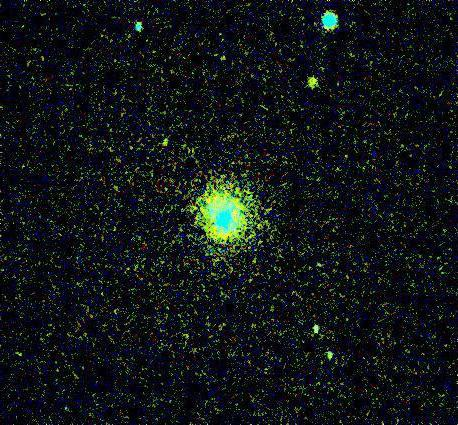star: (296, 68, 326, 98)
